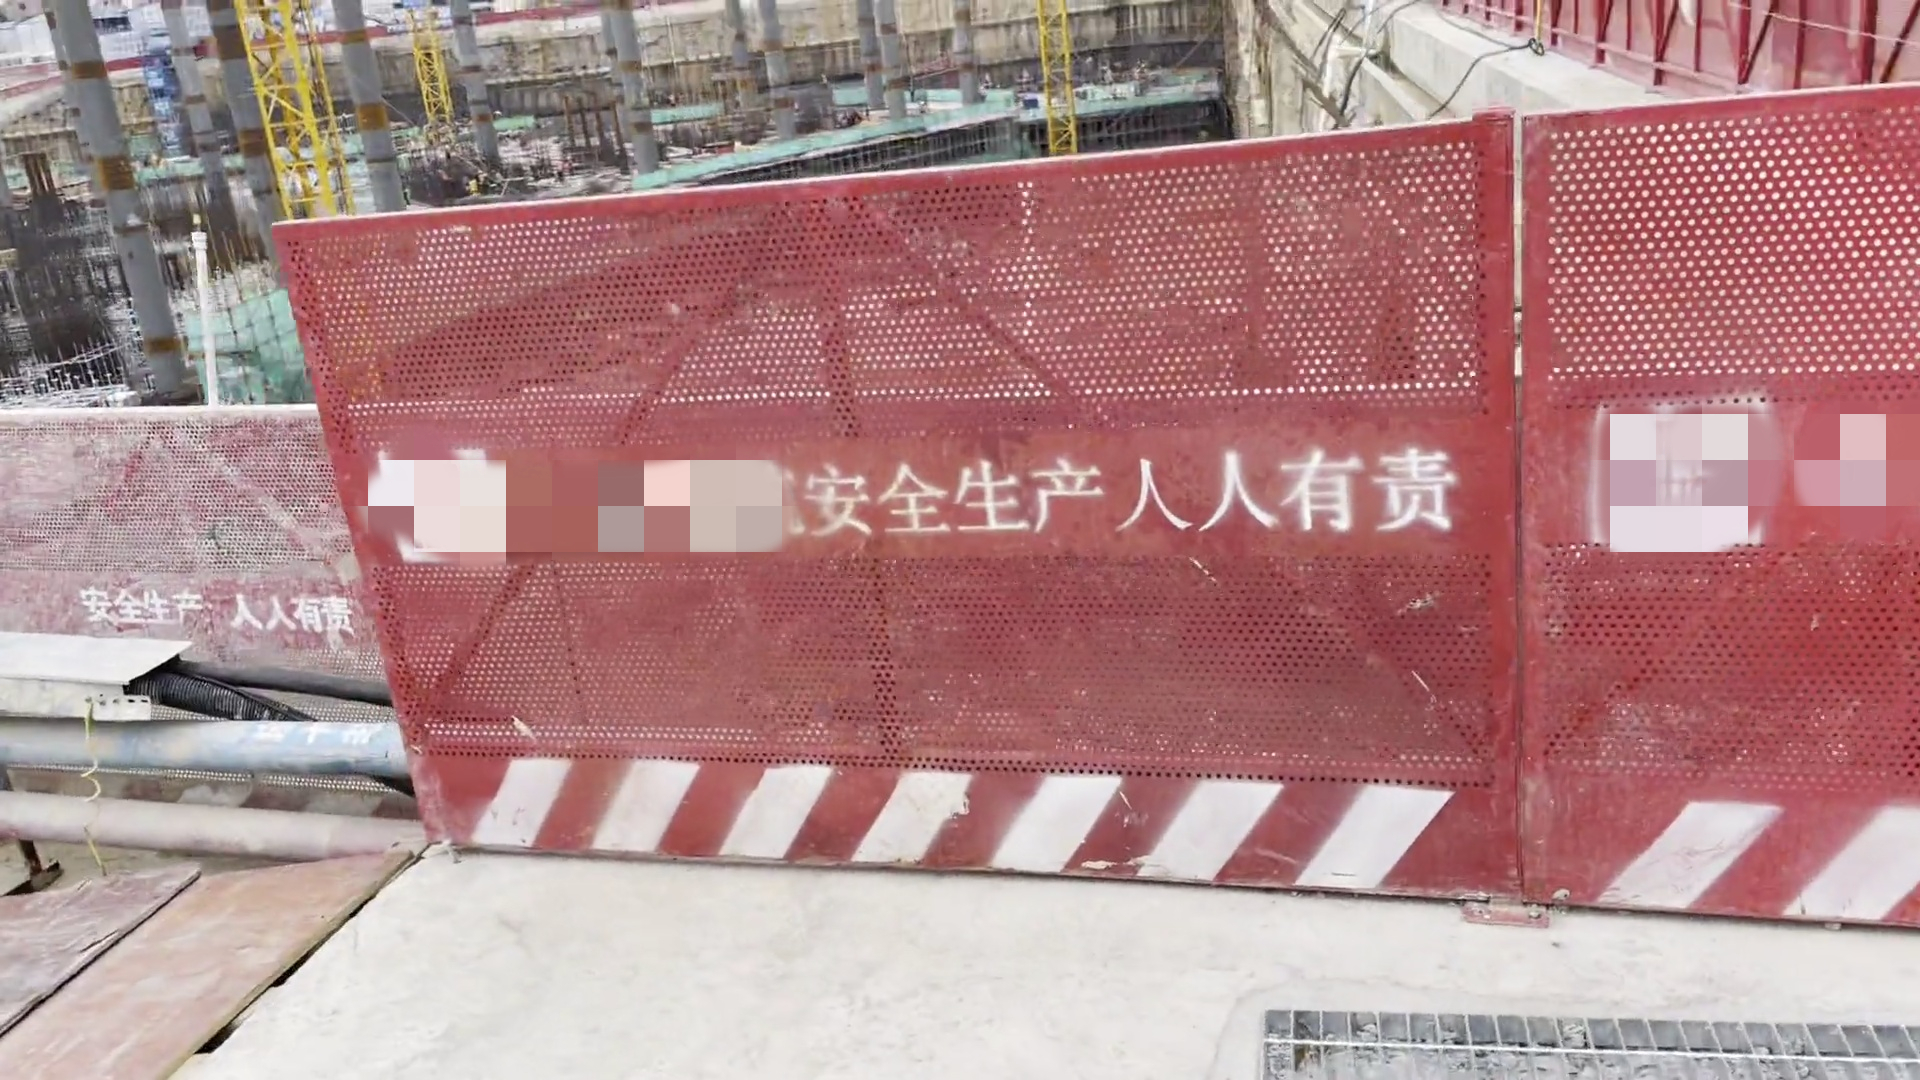board: (3, 843, 440, 1080)
fence: (257, 187, 1556, 1004), (923, 80, 1920, 980), (3, 388, 472, 756), (1445, 1, 1920, 104)
slogan: (135, 57, 191, 131)
